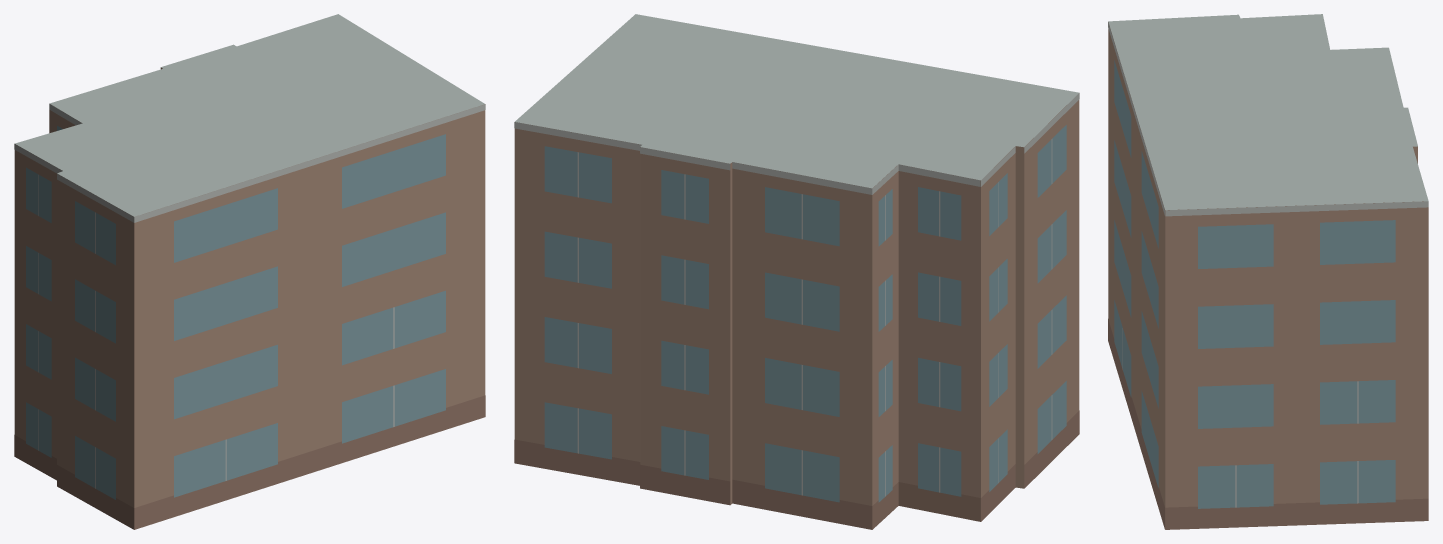
Rendered from survey-upis-32854416.glb.
The picture shows the model from 3 angles, left to right: view 1: azimuth 30°, elevation 25°; view 2: azimuth 150°, elevation 25°; view 3: azimuth 270°, elevation 25°; orthographic projection. The views are drawn at different scales.
Visible parts, largest first — view 1: survey-upis-32854416.tmp; view 2: survey-upis-32854416.tmp; view 3: survey-upis-32854416.tmp.
Boxes of the visible parts, x1,y1,x2,y2 form: survey-upis-32854416.tmp: [14, 14, 485, 529]; survey-upis-32854416.tmp: [514, 14, 1079, 529]; survey-upis-32854416.tmp: [1108, 14, 1428, 529].
Bounding box in the file's own units: 16.59 × 12.6 × 11.46.
